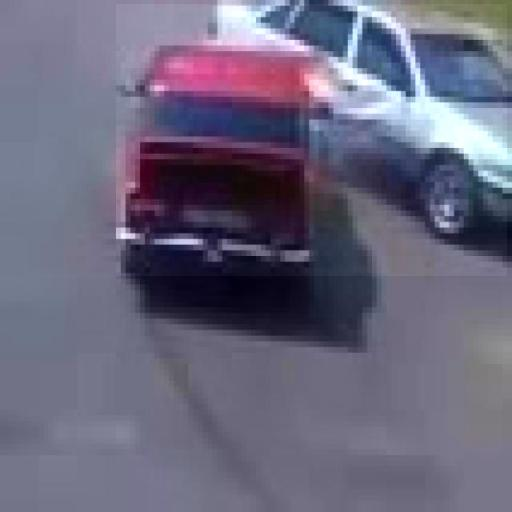小汽车撞小汽车: (116, 4, 507, 276)
